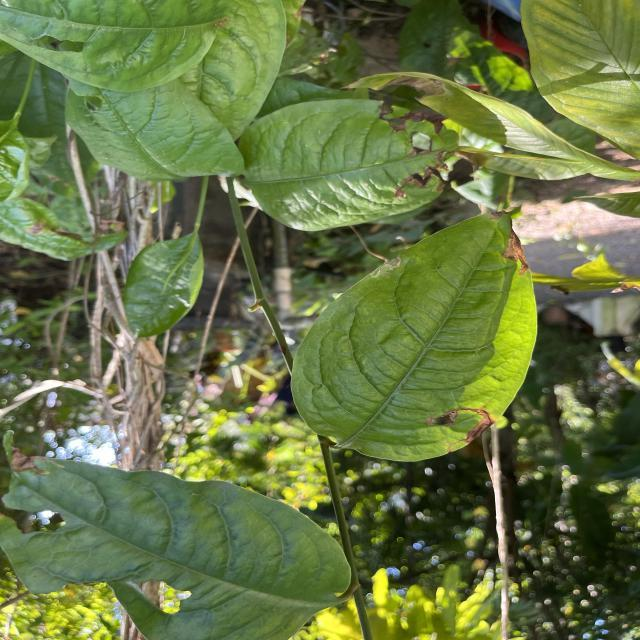Plumbago indica: (286, 202, 542, 466), (0, 452, 352, 640), (233, 94, 460, 234), (61, 78, 246, 182), (119, 228, 208, 344)
